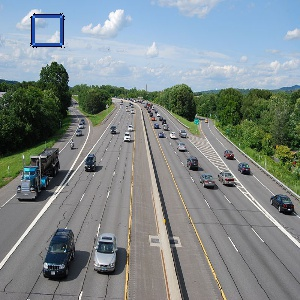square: (28, 11, 67, 50)
